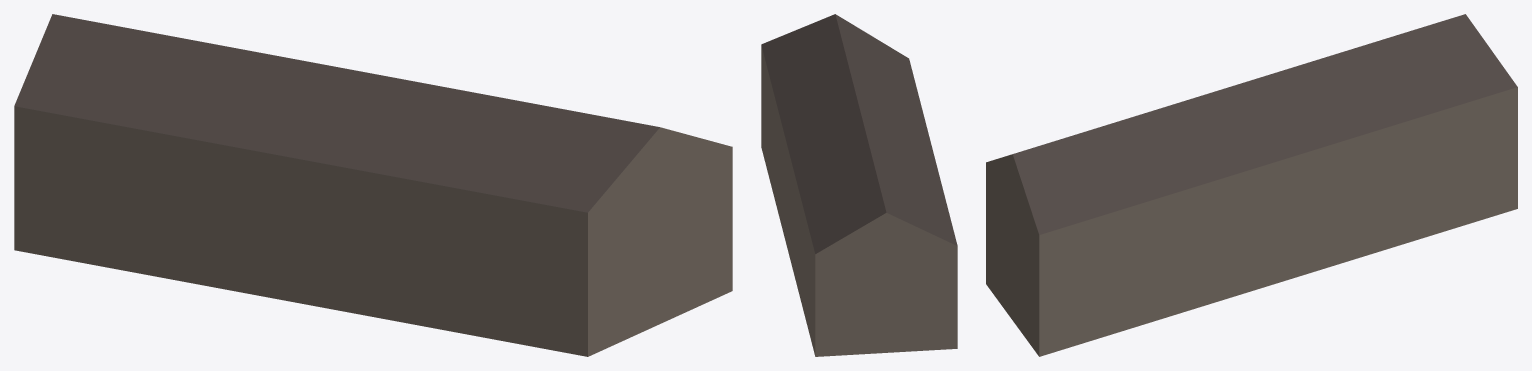
The picture shows the model from 3 angles, left to right: view 1: azimuth 30°, elevation 25°; view 2: azimuth 150°, elevation 25°; view 3: azimuth 270°, elevation 25°; orthographic projection. The views are drawn at different scales.
Visible parts, largest first — view 1: HP-w756797943; view 2: HP-w756797943; view 3: HP-w756797943.
Part boxes in pixels (box(x1,y1,x2,y2)): HP-w756797943: box(14, 14, 732, 356); HP-w756797943: box(761, 14, 957, 356); HP-w756797943: box(986, 14, 1517, 356).
Size of the model in its own units: 21.67 by 8.2 by 23.74.
